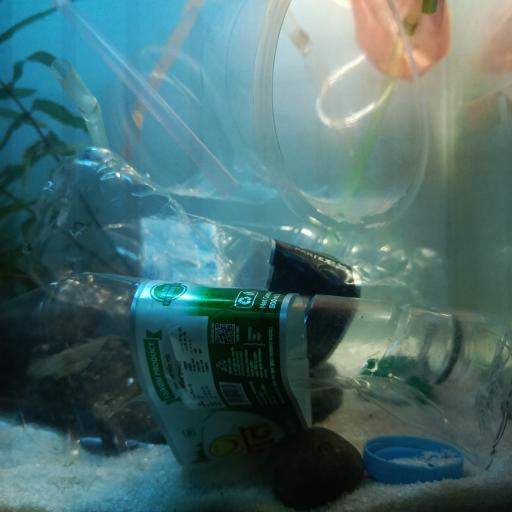bottle_cap: (364, 437, 464, 482), (361, 355, 430, 400)
mask: (318, 0, 452, 127)
plastic_bottle: (20, 147, 475, 390), (2, 272, 506, 464), (22, 217, 447, 308)
plastic_cup: (117, 0, 429, 231)
plastic_straw: (58, 1, 237, 192), (344, 0, 422, 201), (280, 1, 352, 179), (128, 0, 204, 144), (52, 59, 109, 148)
